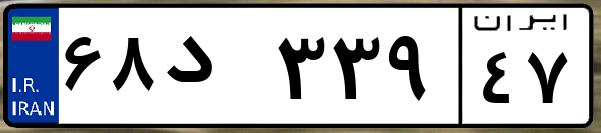3: (270, 28, 330, 110), (330, 28, 385, 110)
4: (475, 38, 525, 113)
6: (57, 26, 110, 100)
7: (525, 38, 570, 115)
8: (110, 28, 158, 98)
9: (385, 28, 445, 110)
د: (158, 20, 270, 120)
